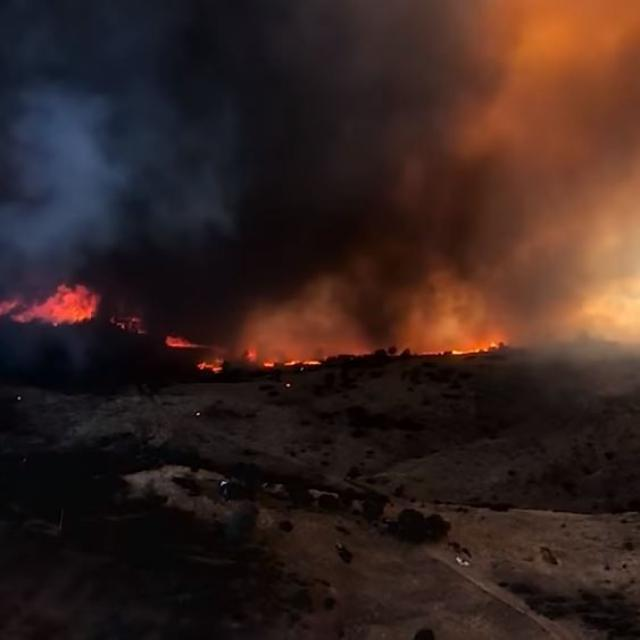Fire: (2, 284, 114, 338), (235, 339, 324, 375), (384, 342, 499, 366), (158, 324, 197, 348), (194, 353, 228, 374)
Smoke: (0, 0, 637, 341)
